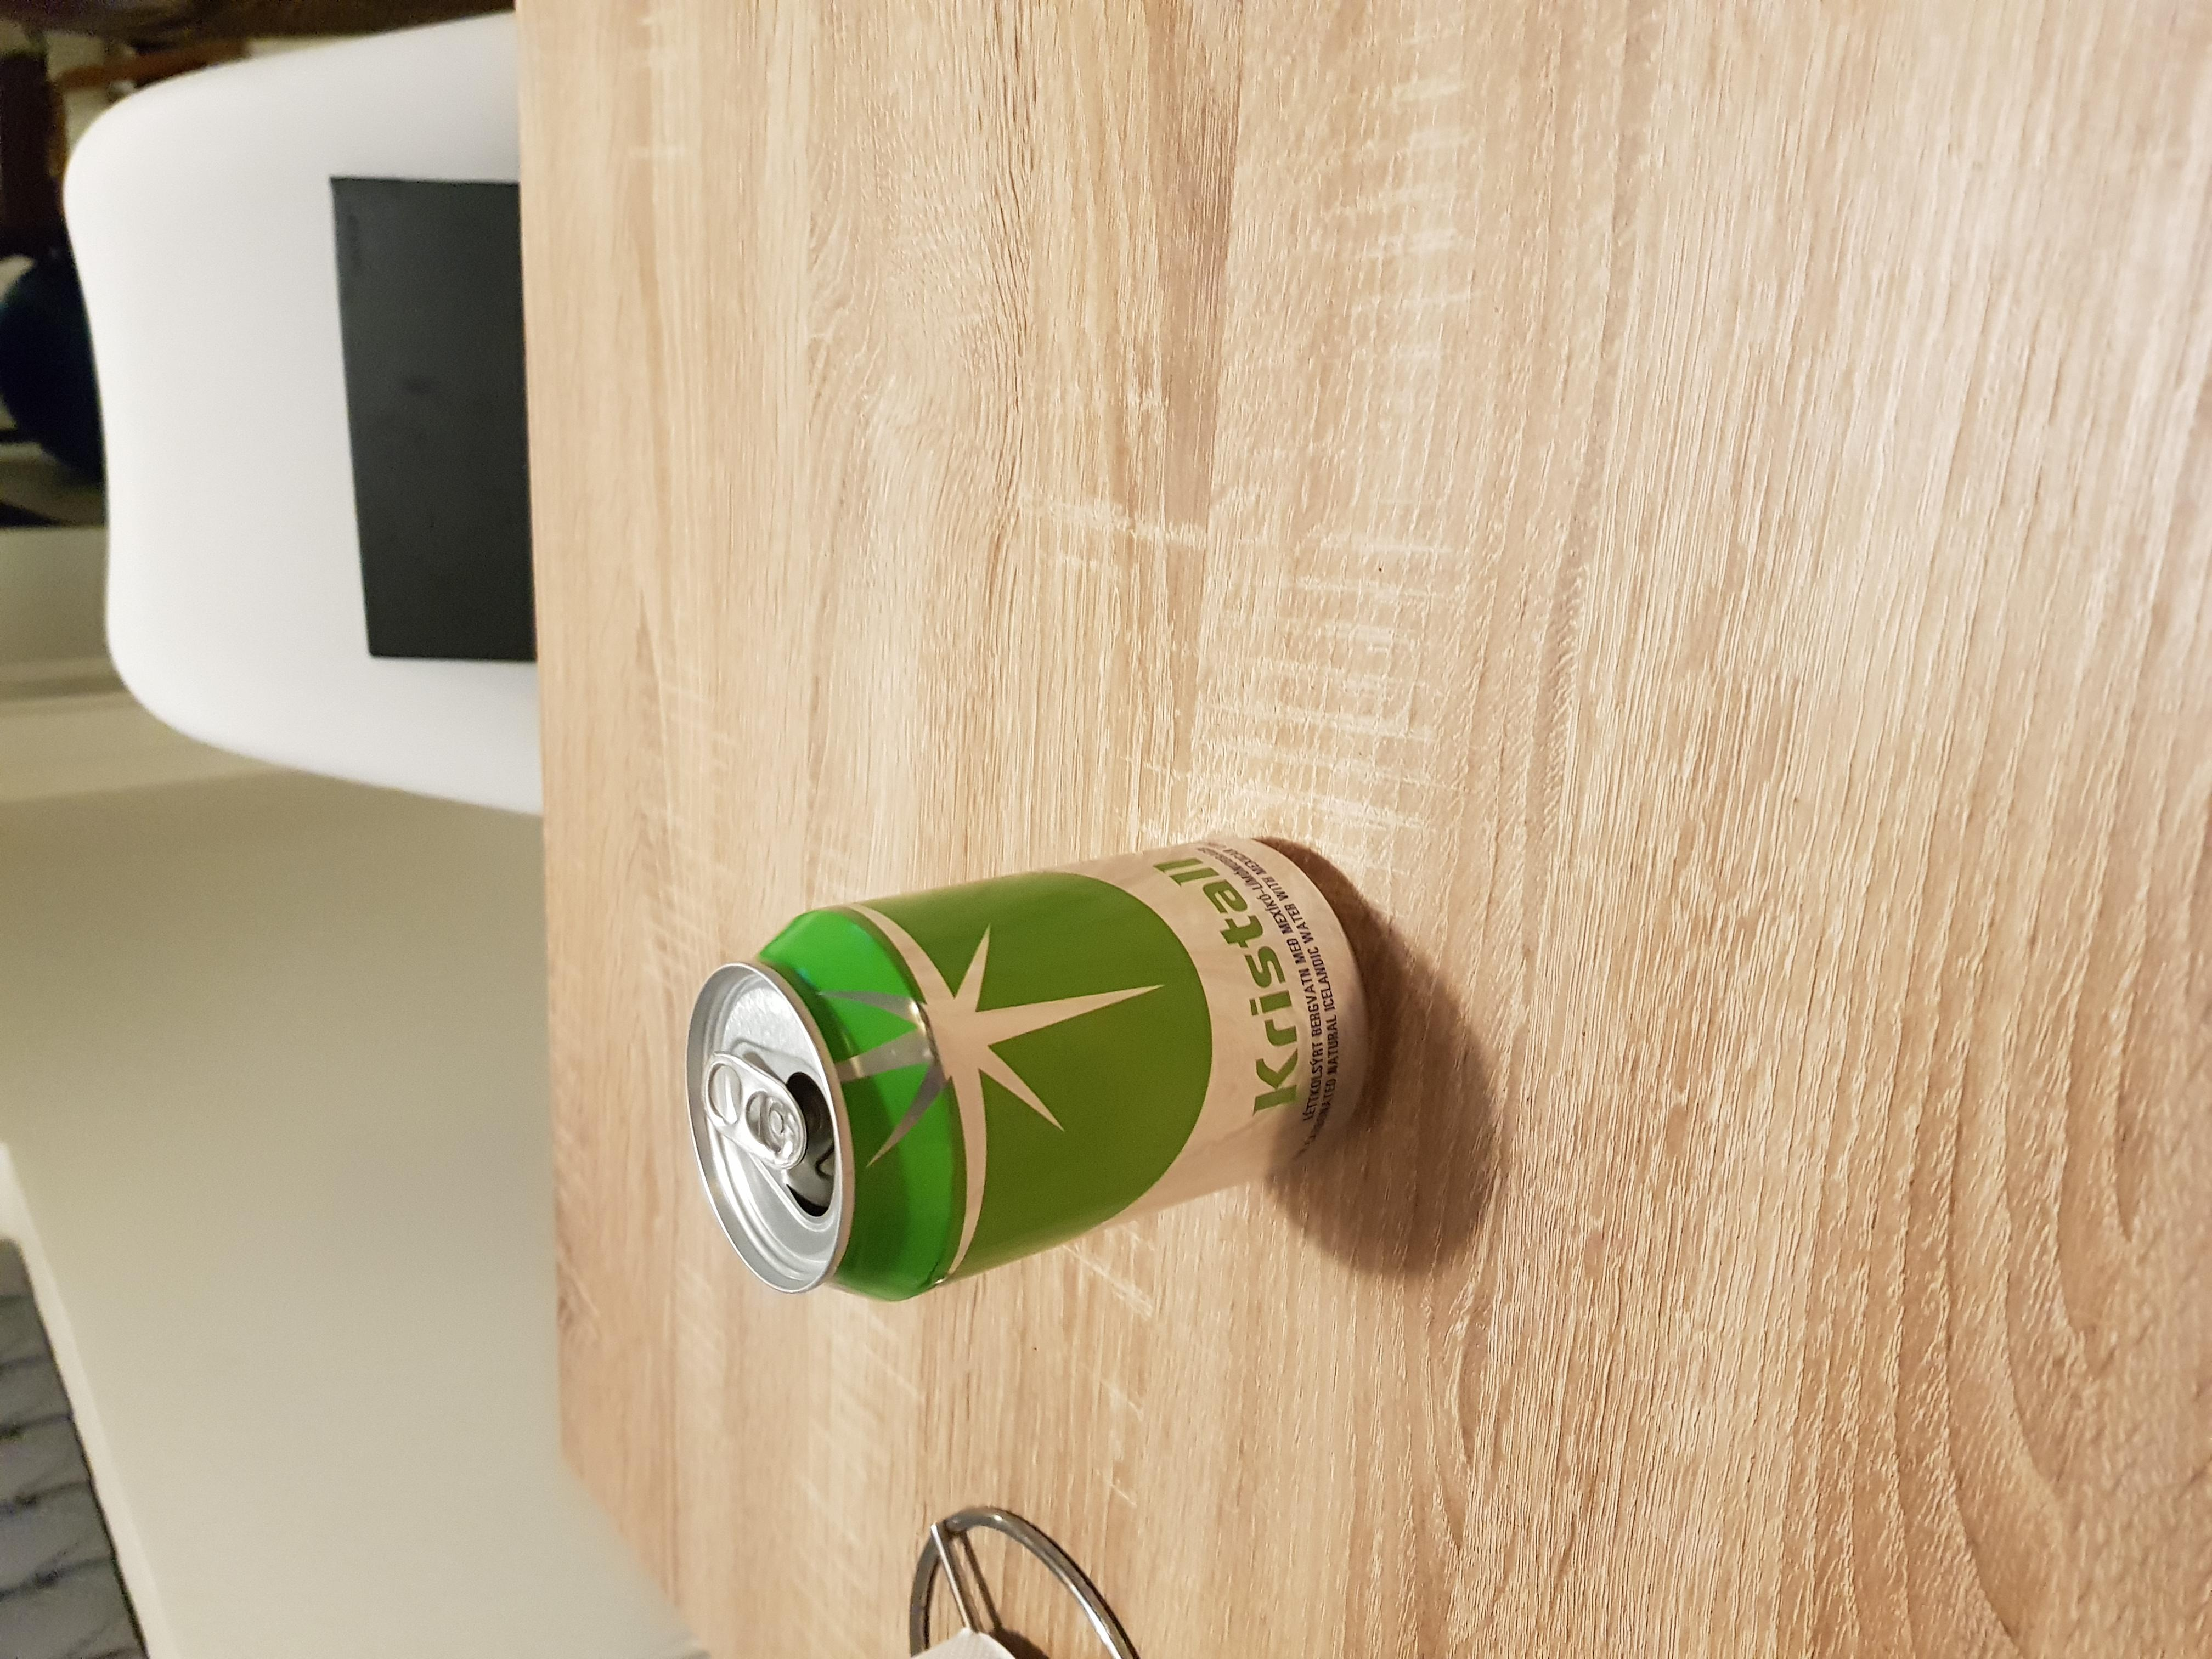can: (672, 817, 1372, 1297)
